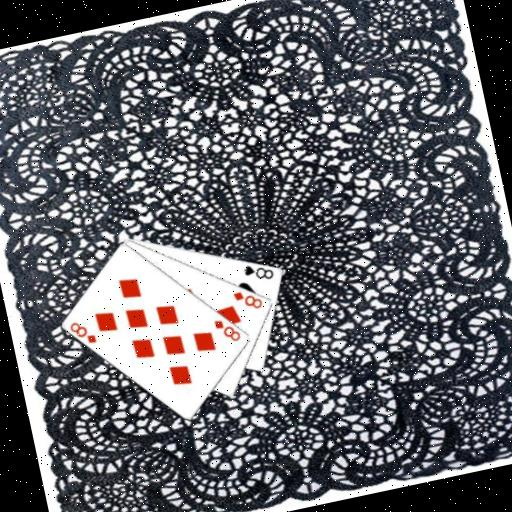8D: (210, 312, 244, 346), (66, 315, 99, 349), (229, 284, 265, 315)
8S: (238, 257, 276, 286)
